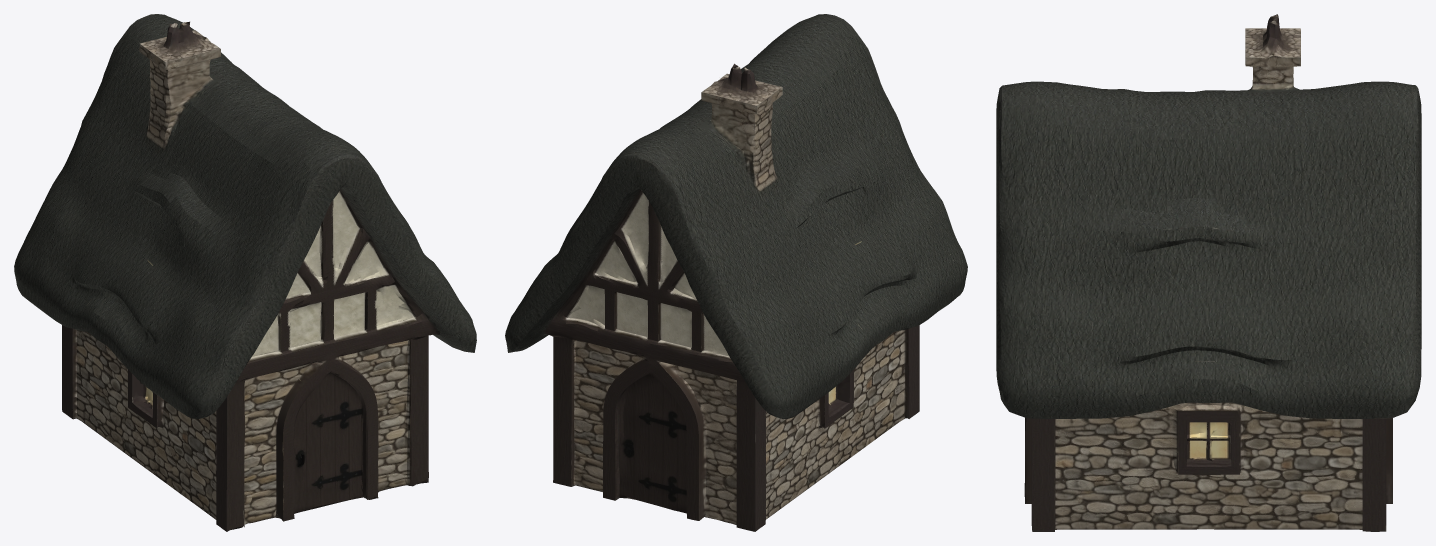
Rendered from ok-farm-cottage-meshy.glb.
The picture shows the model from 3 angles, left to right: view 1: azimuth 30°, elevation 25°; view 2: azimuth 150°, elevation 25°; view 3: azimuth 270°, elevation 25°; orthographic projection. The views are drawn at different scales.
Size of the model in its own units: 1.44 by 1.9 by 1.65.
1 material, 1 textured.
